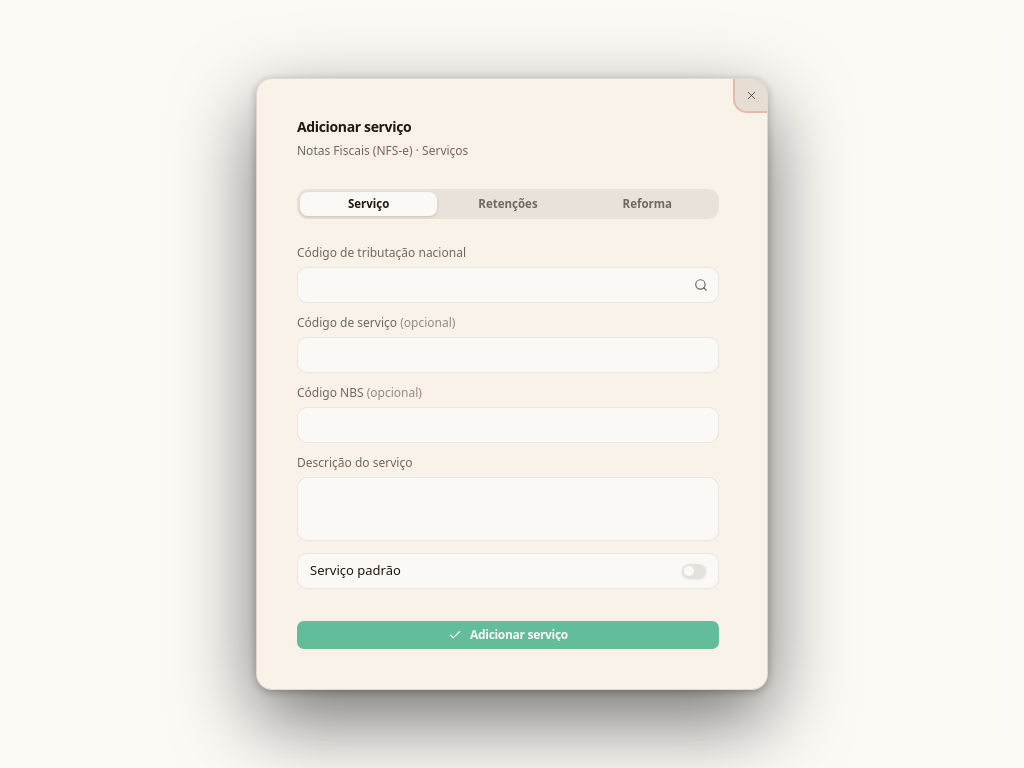
janela Notas Fiscais (NFS-e) › Adicionar serviço: 3 abas, código nacional obrigatório e retenções com aviso do Simples
The width and height of the screenshot is (1024, 768).
Expected: the number of headings "Adicionar serviço" is 2, left=297, top=117, right=411, bottom=136; left=470, top=629, right=568, bottom=641
Expected: the button "Adicionar serviço" is disabled, left=297, top=621, right=719, bottom=649
Click the button "Retenções" at (508,204), box left=439, top=192, right=577, bottom=216
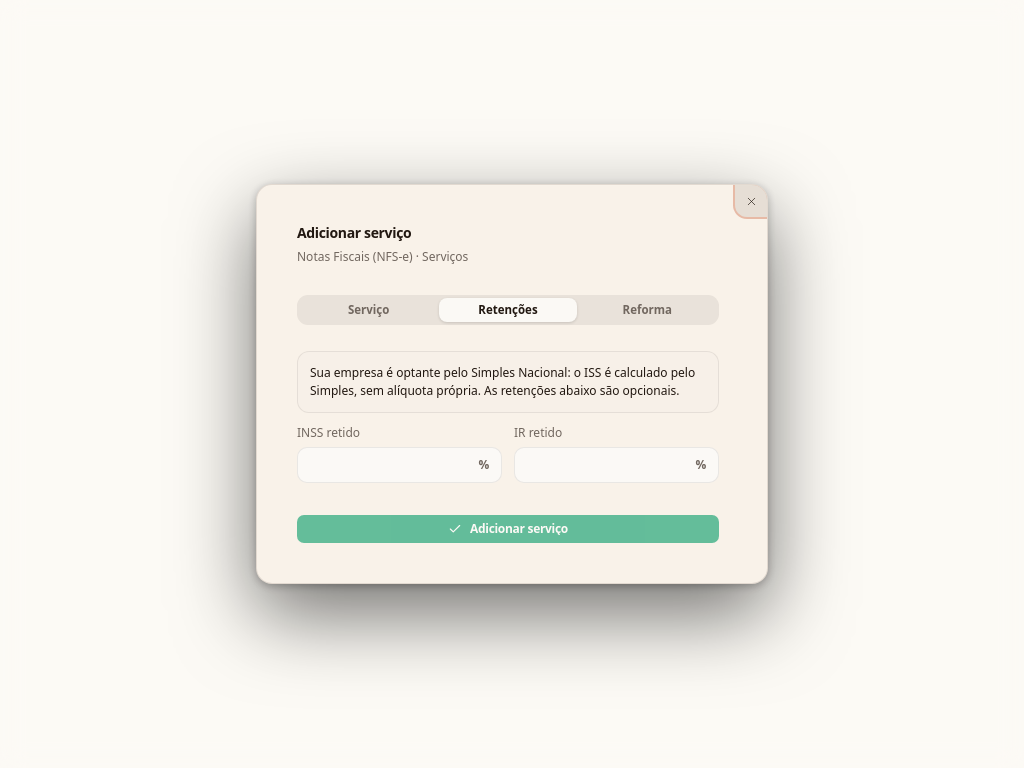
Result: the text "optante pelo Simples Nacional: o ISS é calculado pelo Simples" is shown at left=310, top=364, right=695, bottom=399
Result: the text "INSS retido" is shown at left=297, top=424, right=360, bottom=441
Click the button "Reforma" at (647,310), box left=579, top=298, right=716, bottom=322
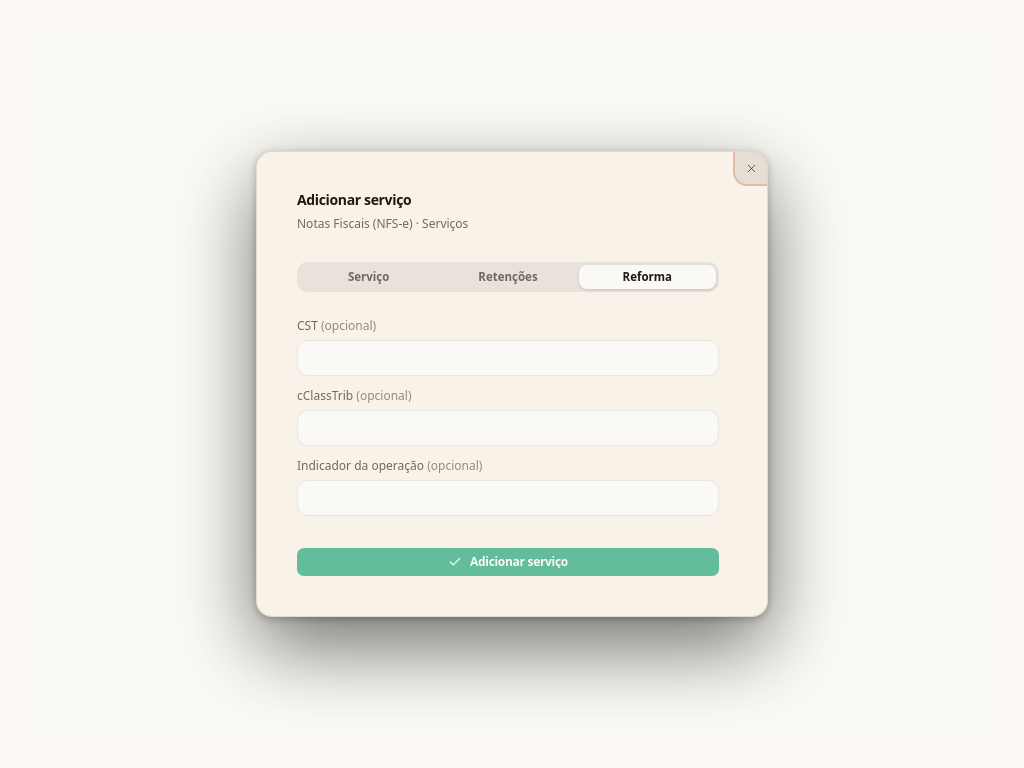
Result: the text "CST" is shown at left=297, top=317, right=318, bottom=334
Result: the text "cClassTrib" is shown at left=297, top=387, right=353, bottom=404
Result: the text "Indicador da operação" is shown at left=297, top=457, right=424, bottom=474
